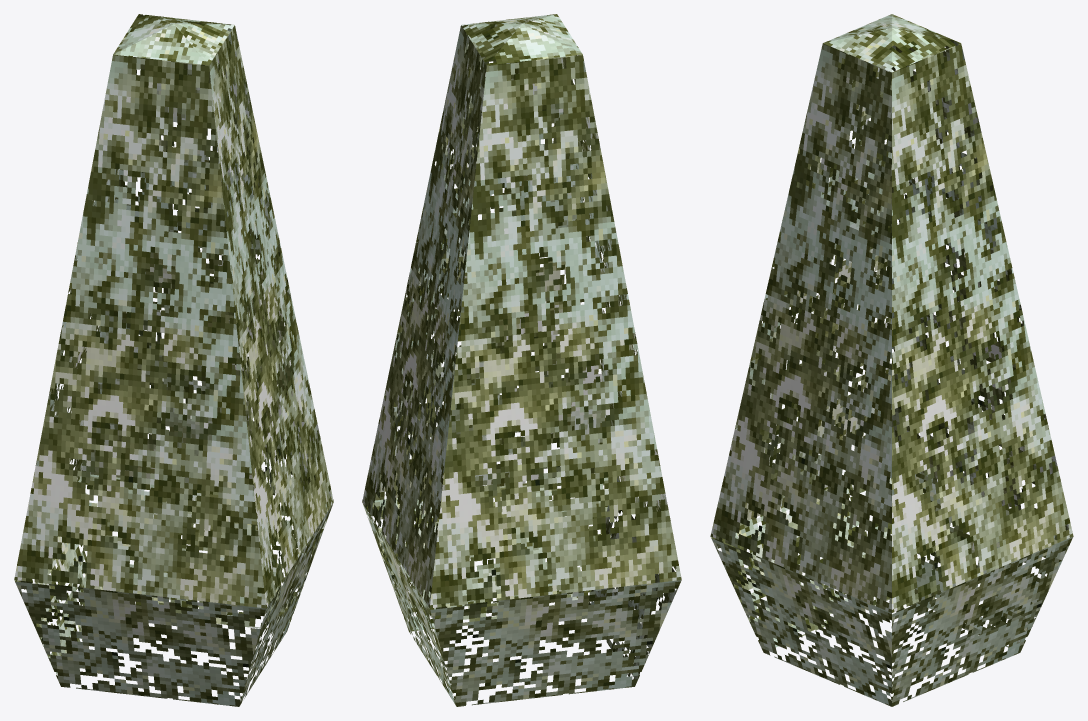
File: bush_end_tall_winter.glb
3 views of the same model, side by side, from view 1: azimuth 30°, elevation 25°; view 2: azimuth 150°, elevation 25°; view 3: azimuth 270°, elevation 25° (orthographic).
Parts seen in each view (by area): view 1: bush_end_tall_winter; view 2: bush_end_tall_winter; view 3: bush_end_tall_winter.
Part boxes in pixels (<box>): bush_end_tall_winter: <box>14,14,333,706</box>; bush_end_tall_winter: <box>362,14,681,706</box>; bush_end_tall_winter: <box>710,14,1073,706</box>.
Bounding box in the file's own units: 1.39 × 2.63 × 1.39.
Materials: 1 (1 with a texture image).
